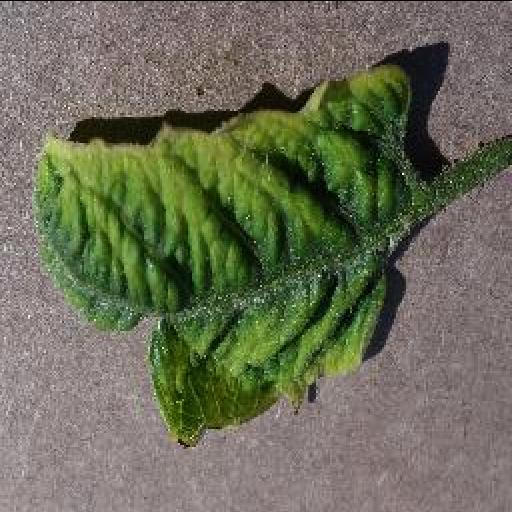disease_tomato: (28, 62, 418, 448)
